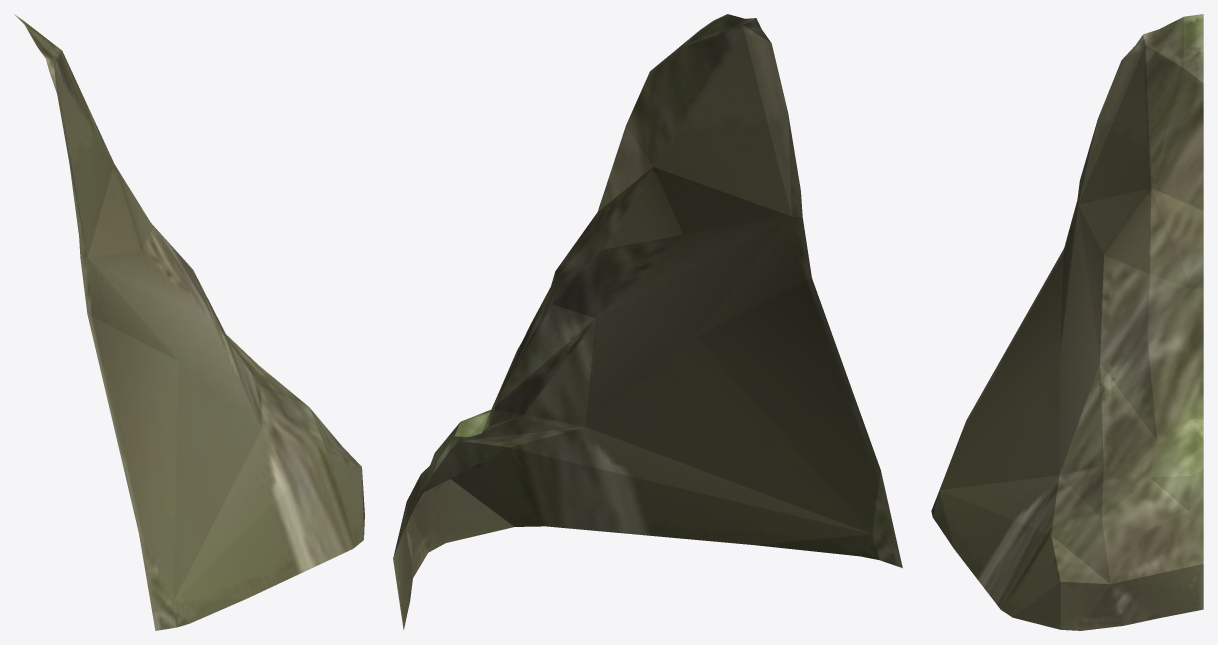
3 renders of one model, left to right at view 1: azimuth 30°, elevation 25°; view 2: azimuth 150°, elevation 25°; view 3: azimuth 270°, elevation 25°, orthographic. The views are drawn at different scales.
Bounding box in the file's own units: 2.14 × 3.77 × 1.91.
1 material, 1 textured.
